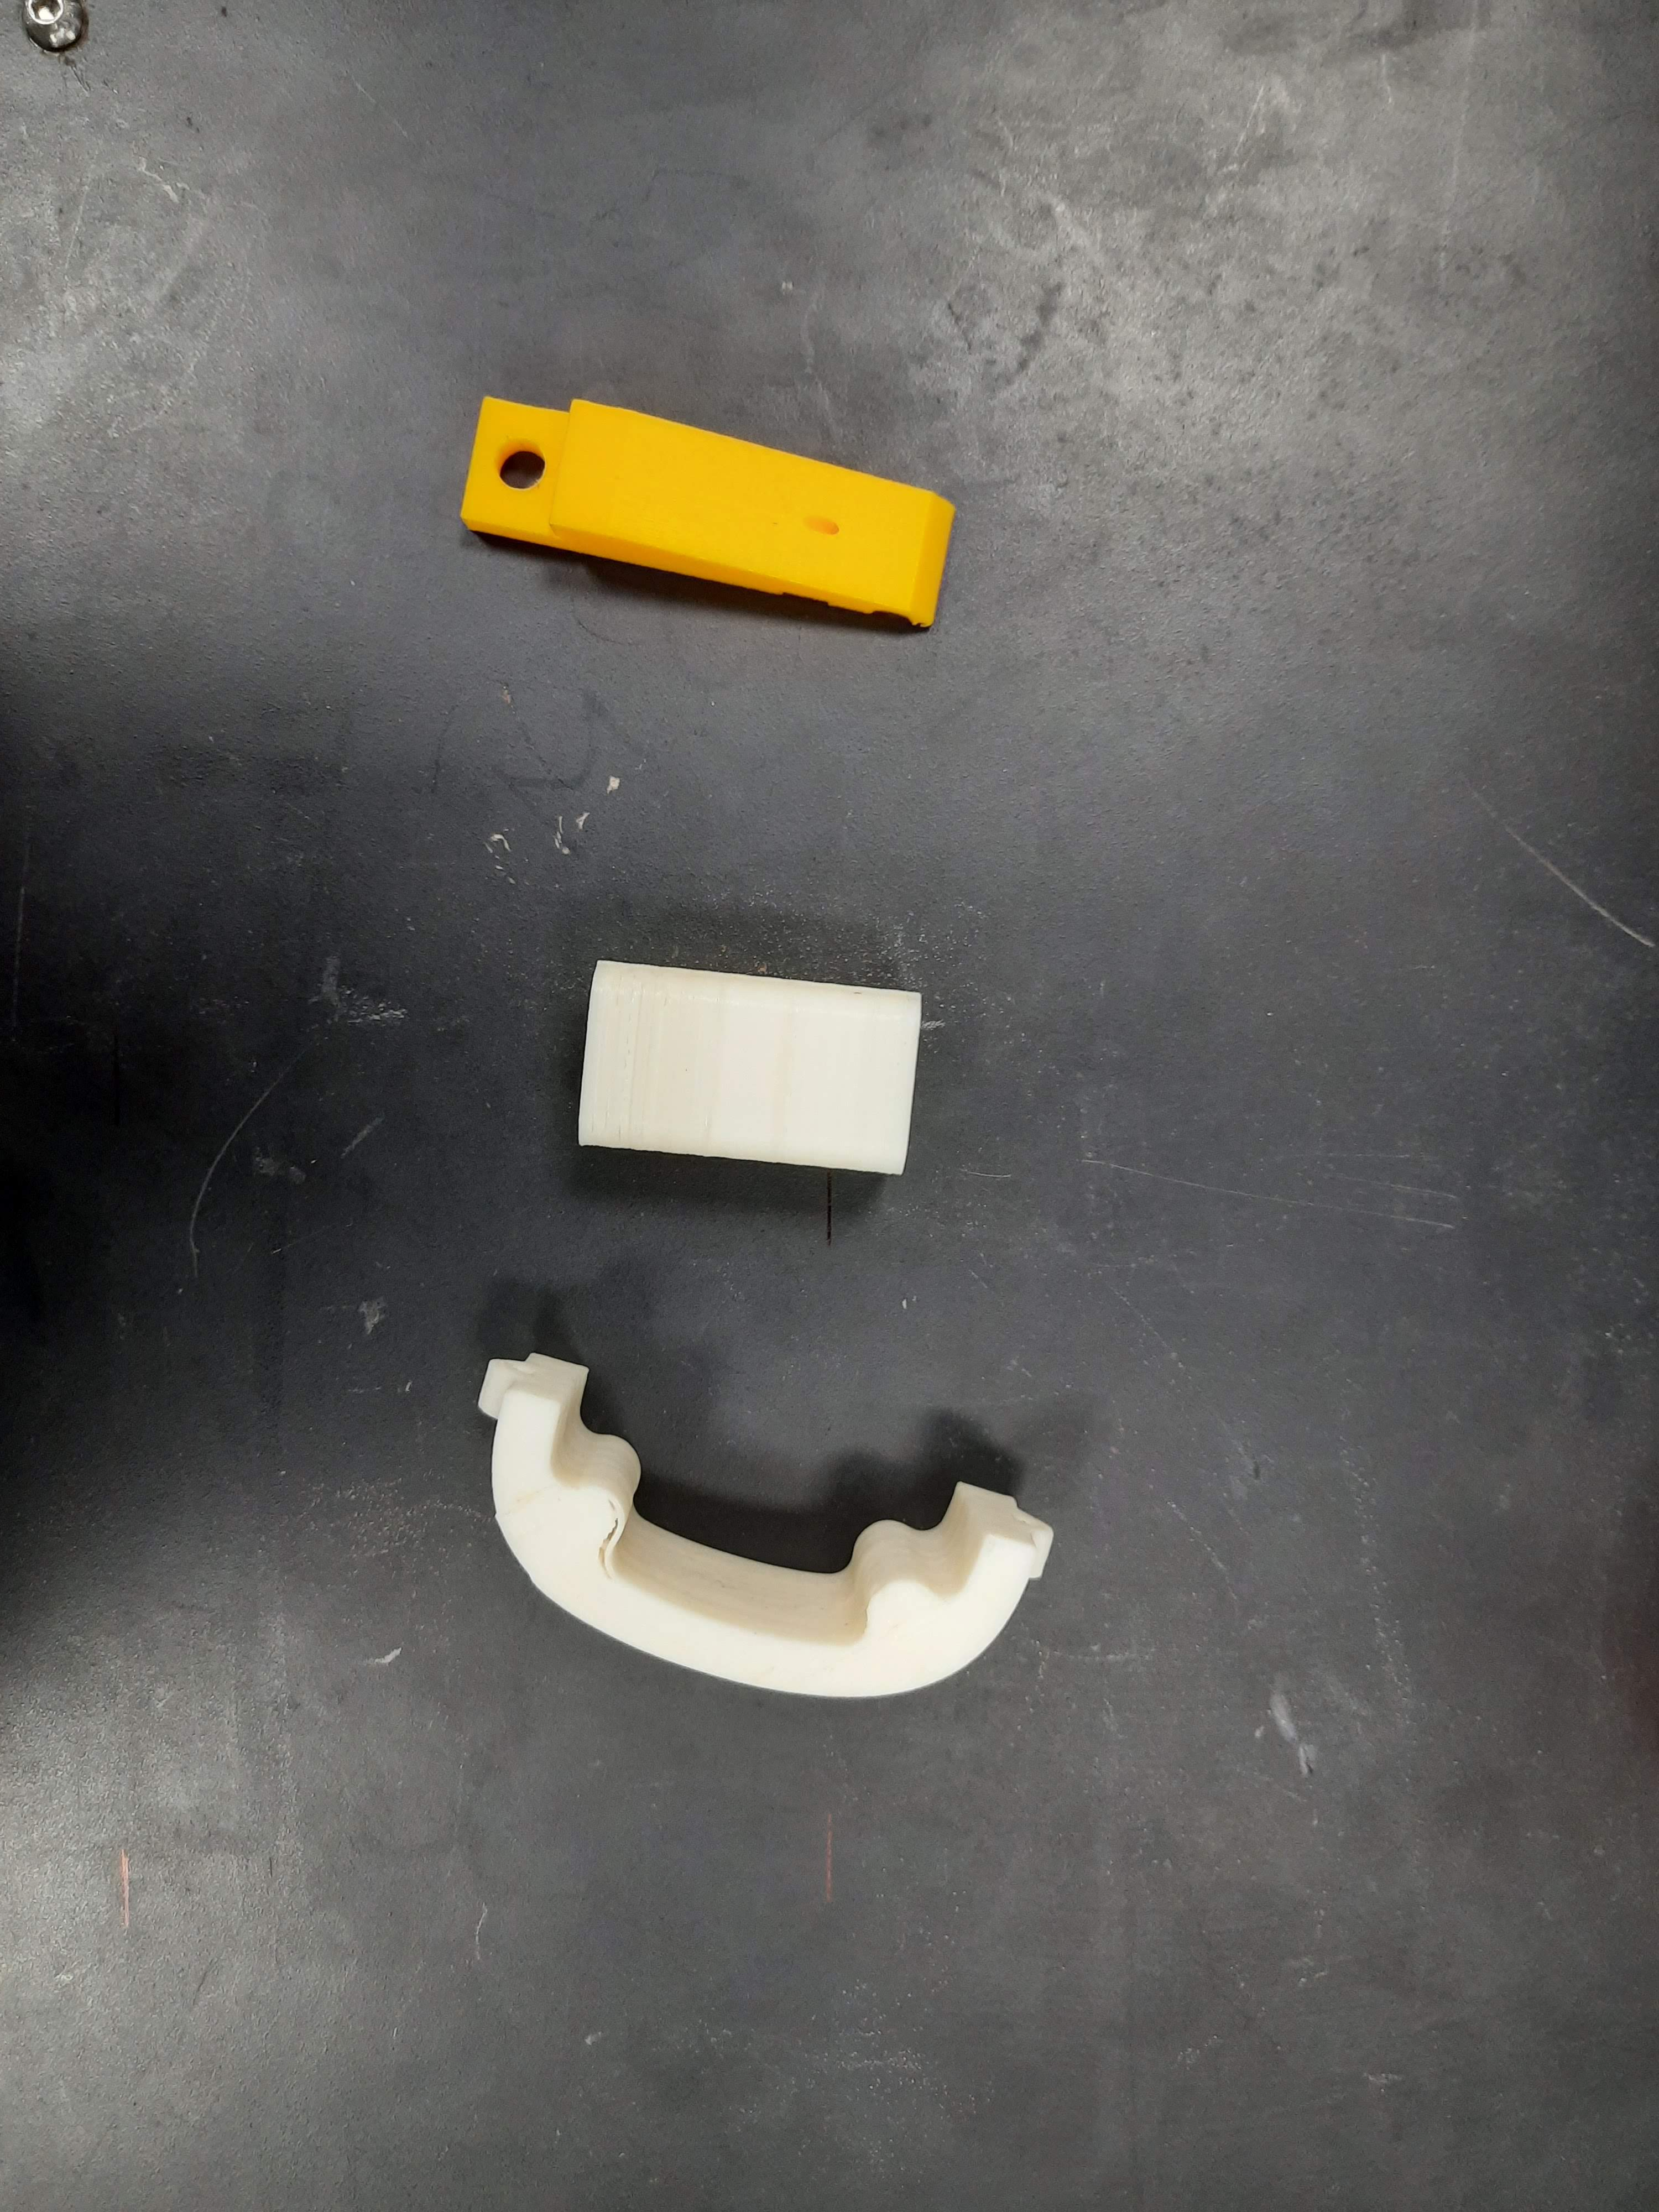ARC: (416, 1334, 1066, 1757)
CUBE: (573, 954, 927, 1177)
YELLOW: (455, 383, 962, 620)
